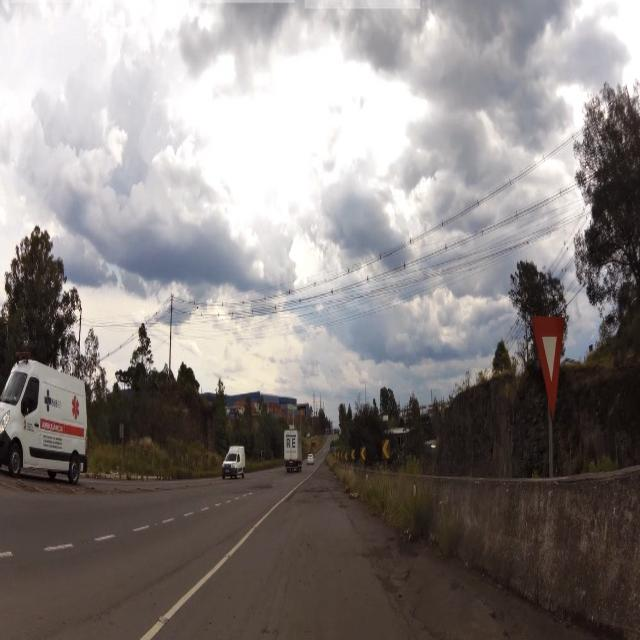R-2: (531, 313, 572, 412)
